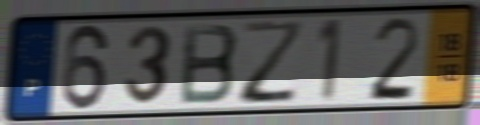1: (315, 16, 343, 105)
2: (367, 15, 422, 103)
3: (120, 23, 174, 108)
6: (60, 22, 110, 113)
B: (177, 21, 241, 108)
Z: (238, 17, 307, 107)
